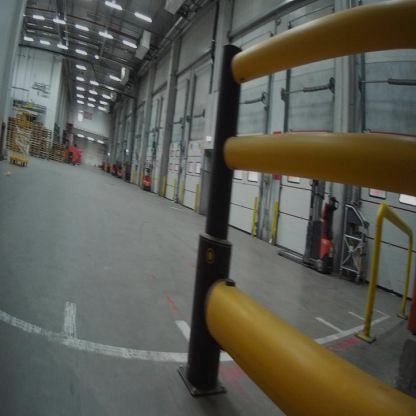pallets: (1, 112, 72, 176)
